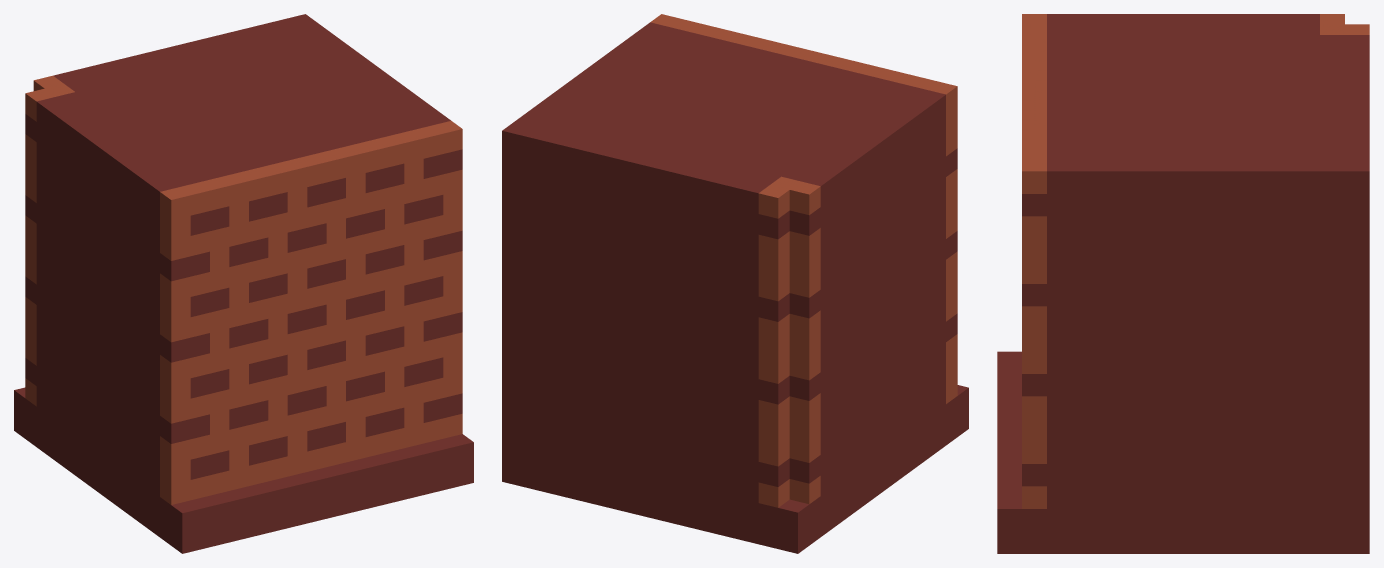
File: dungeon_b_b_outer_wall_segment_c.obj
The picture shows the model from 3 angles, left to right: view 1: azimuth 30°, elevation 25°; view 2: azimuth 150°, elevation 25°; view 3: azimuth 270°, elevation 25°; orthographic projection. The views are drawn at different scales.
Bounding box in the file's own units: 1.5 × 1.7 × 1.5.
1 material, 1 textured.
